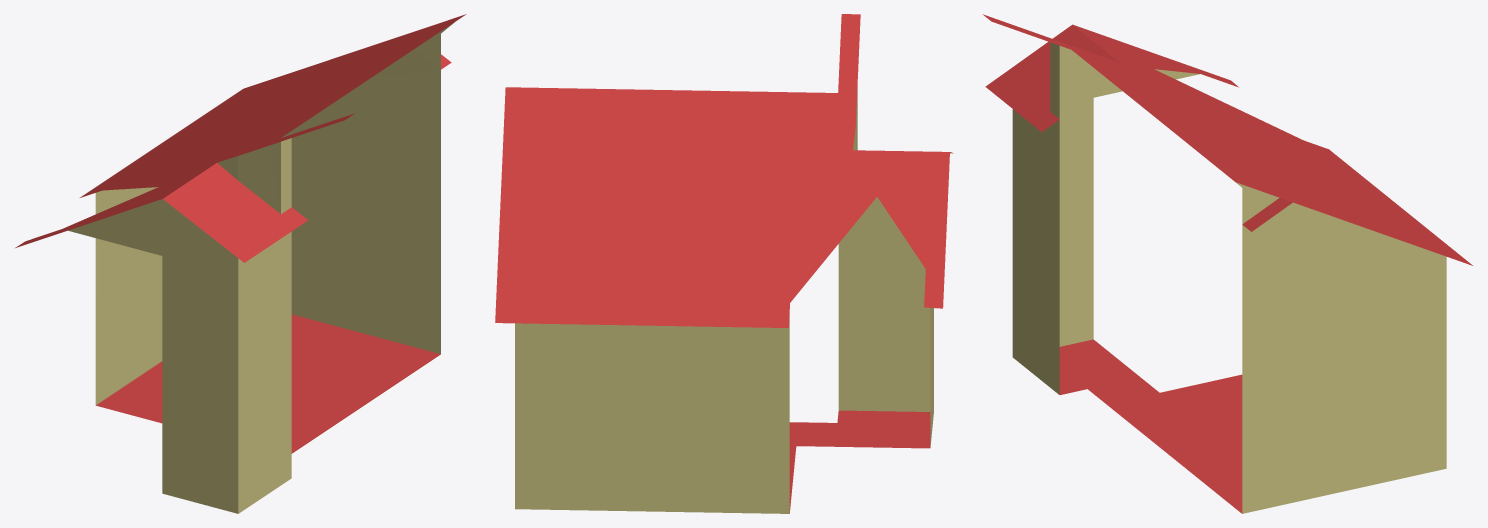
The picture shows the model from 3 angles, left to right: view 1: azimuth 30°, elevation 25°; view 2: azimuth 150°, elevation 25°; view 3: azimuth 270°, elevation 25°; orthographic projection. The views are drawn at different scales.
Size of the model in its own units: 13.19 by 12.14 by 10.59.
